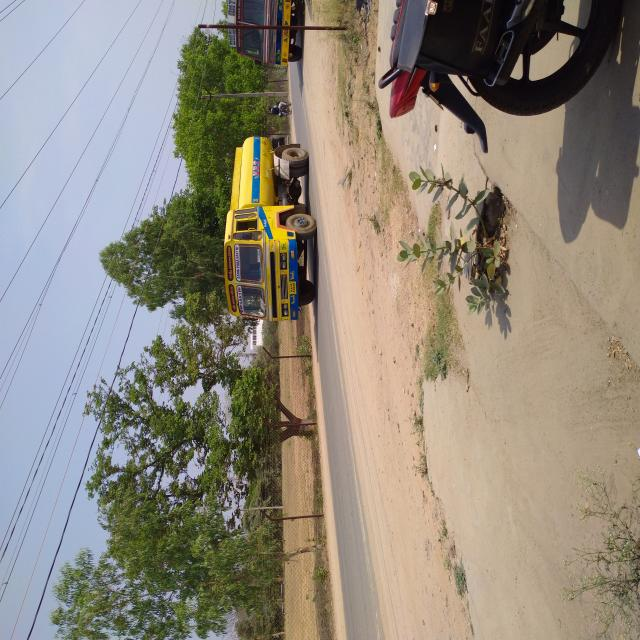Motorcycle: (367, 505, 479, 640)
Truck: (243, 298, 380, 422)
